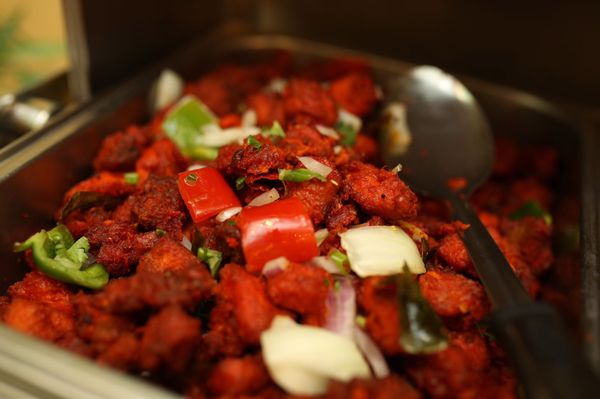sandwich: (19, 47, 530, 392)
